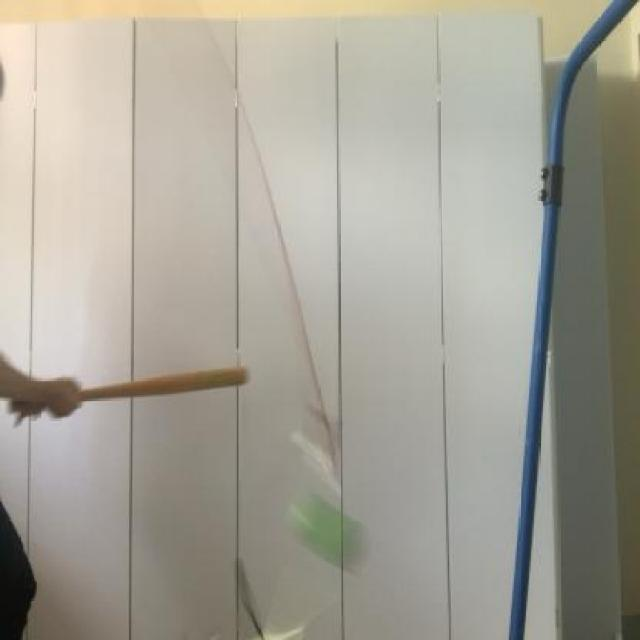baseball: (287, 476, 376, 572)
